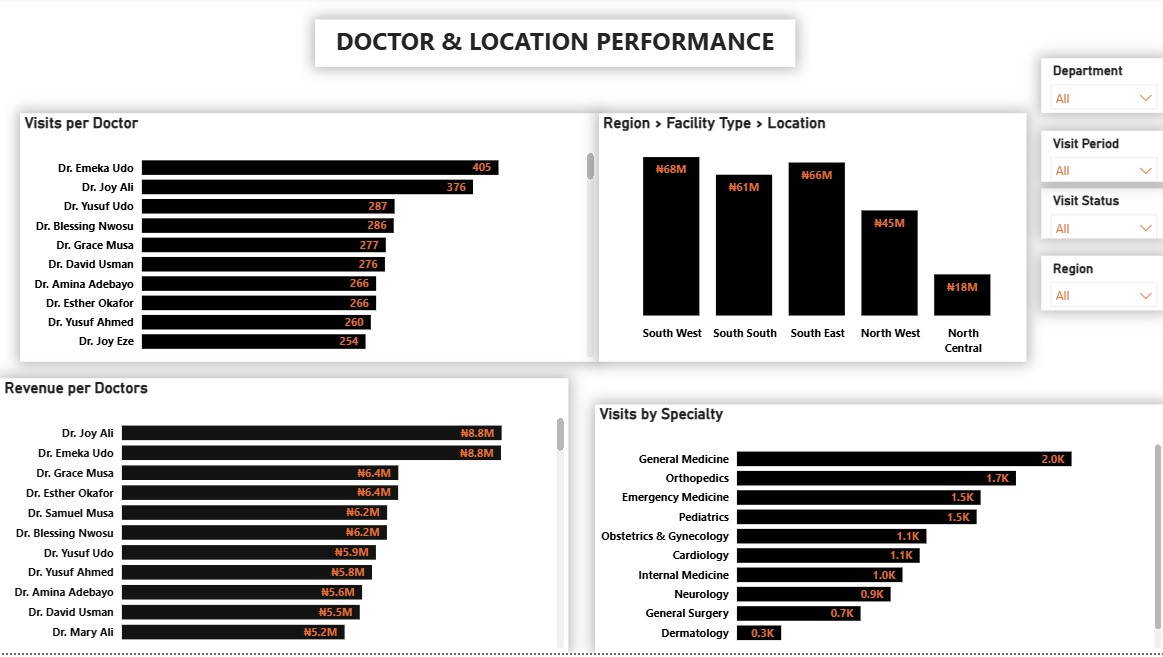

Layout of this report page (visuals, bound fields, positions):
{"tool":"powerbi","page":{"name":"Doctor & Location Performance","canvas":[1280,720],"ordinal":2},"visuals":[{"type":"textbox","box":[345.8,24.7,526.9,52.1],"z":0},{"type":"slicer","fields":{"Values":["Visits.Visit_Status"]},"box":[1143.1,209.9,137.2,54.9],"z":1000},{"type":"slicer","fields":{"Values":["Visits.Department"]},"box":[1143.1,67.2,137.2,60.4],"z":2000},{"type":"slicer","fields":{"Values":["Locations.Region"]},"box":[1143.1,284,137.2,60.4],"z":3000},{"type":"slicer","fields":{"Values":["Visits.Visit_Months"]},"box":[1143.1,146.8,137.2,56.3],"z":4000},{"type":"barChart","title":"Visits per Doctor","fields":{"Y":["DAX MEASURES.Total Visits"],"Category":["Doctors.Doctor_Name"]},"box":[22,127.6,635.3,273.1],"z":5000},{"type":"barChart","title":"Visits by Specialty","fields":{"Y":["DAX MEASURES.Total Visits"],"Category":["Doctors.Specialty"]},"box":[653.2,447.3,627.1,273.1],"z":6000},{"type":"clusteredColumnChart","title":"Region > Facility Type > Location","fields":{"Category":["Locations.Region","Locations.Facility_Type","Locations.Location_Name"],"Y":["DAX MEASURES.Total Revenue"]},"box":[657.3,127.6,469.3,273.1],"z":7000},{"type":"clusteredBarChart","title":"Revenue per Doctors","fields":{"Category":["Doctors.Doctor_Name"],"Y":["dax.Total Revenue"]},"box":[0,418.5,624.4,301.9],"z":7002}]}

Visuals, with their boxes in screenshot pixels (x1, y1, x2, y2), scaled from the page's 1280x720 canvas onto the 1163x657 screenshot:
textbox: {"x1": 314, "y1": 23, "x2": 793, "y2": 70}
slicer - Visits.Visit_Status: {"x1": 1039, "y1": 192, "x2": 1162, "y2": 242}
slicer - Visits.Department: {"x1": 1039, "y1": 61, "x2": 1162, "y2": 116}
slicer - Locations.Region: {"x1": 1039, "y1": 259, "x2": 1162, "y2": 314}
slicer - Visits.Visit_Months: {"x1": 1039, "y1": 134, "x2": 1162, "y2": 185}
"Visits per Doctor" barChart: {"x1": 20, "y1": 116, "x2": 597, "y2": 366}
"Visits by Specialty" barChart: {"x1": 593, "y1": 408, "x2": 1162, "y2": 656}
"Region > Facility Type > Location" clusteredColumnChart: {"x1": 597, "y1": 116, "x2": 1024, "y2": 366}
"Revenue per Doctors" clusteredBarChart: {"x1": 0, "y1": 382, "x2": 567, "y2": 656}
